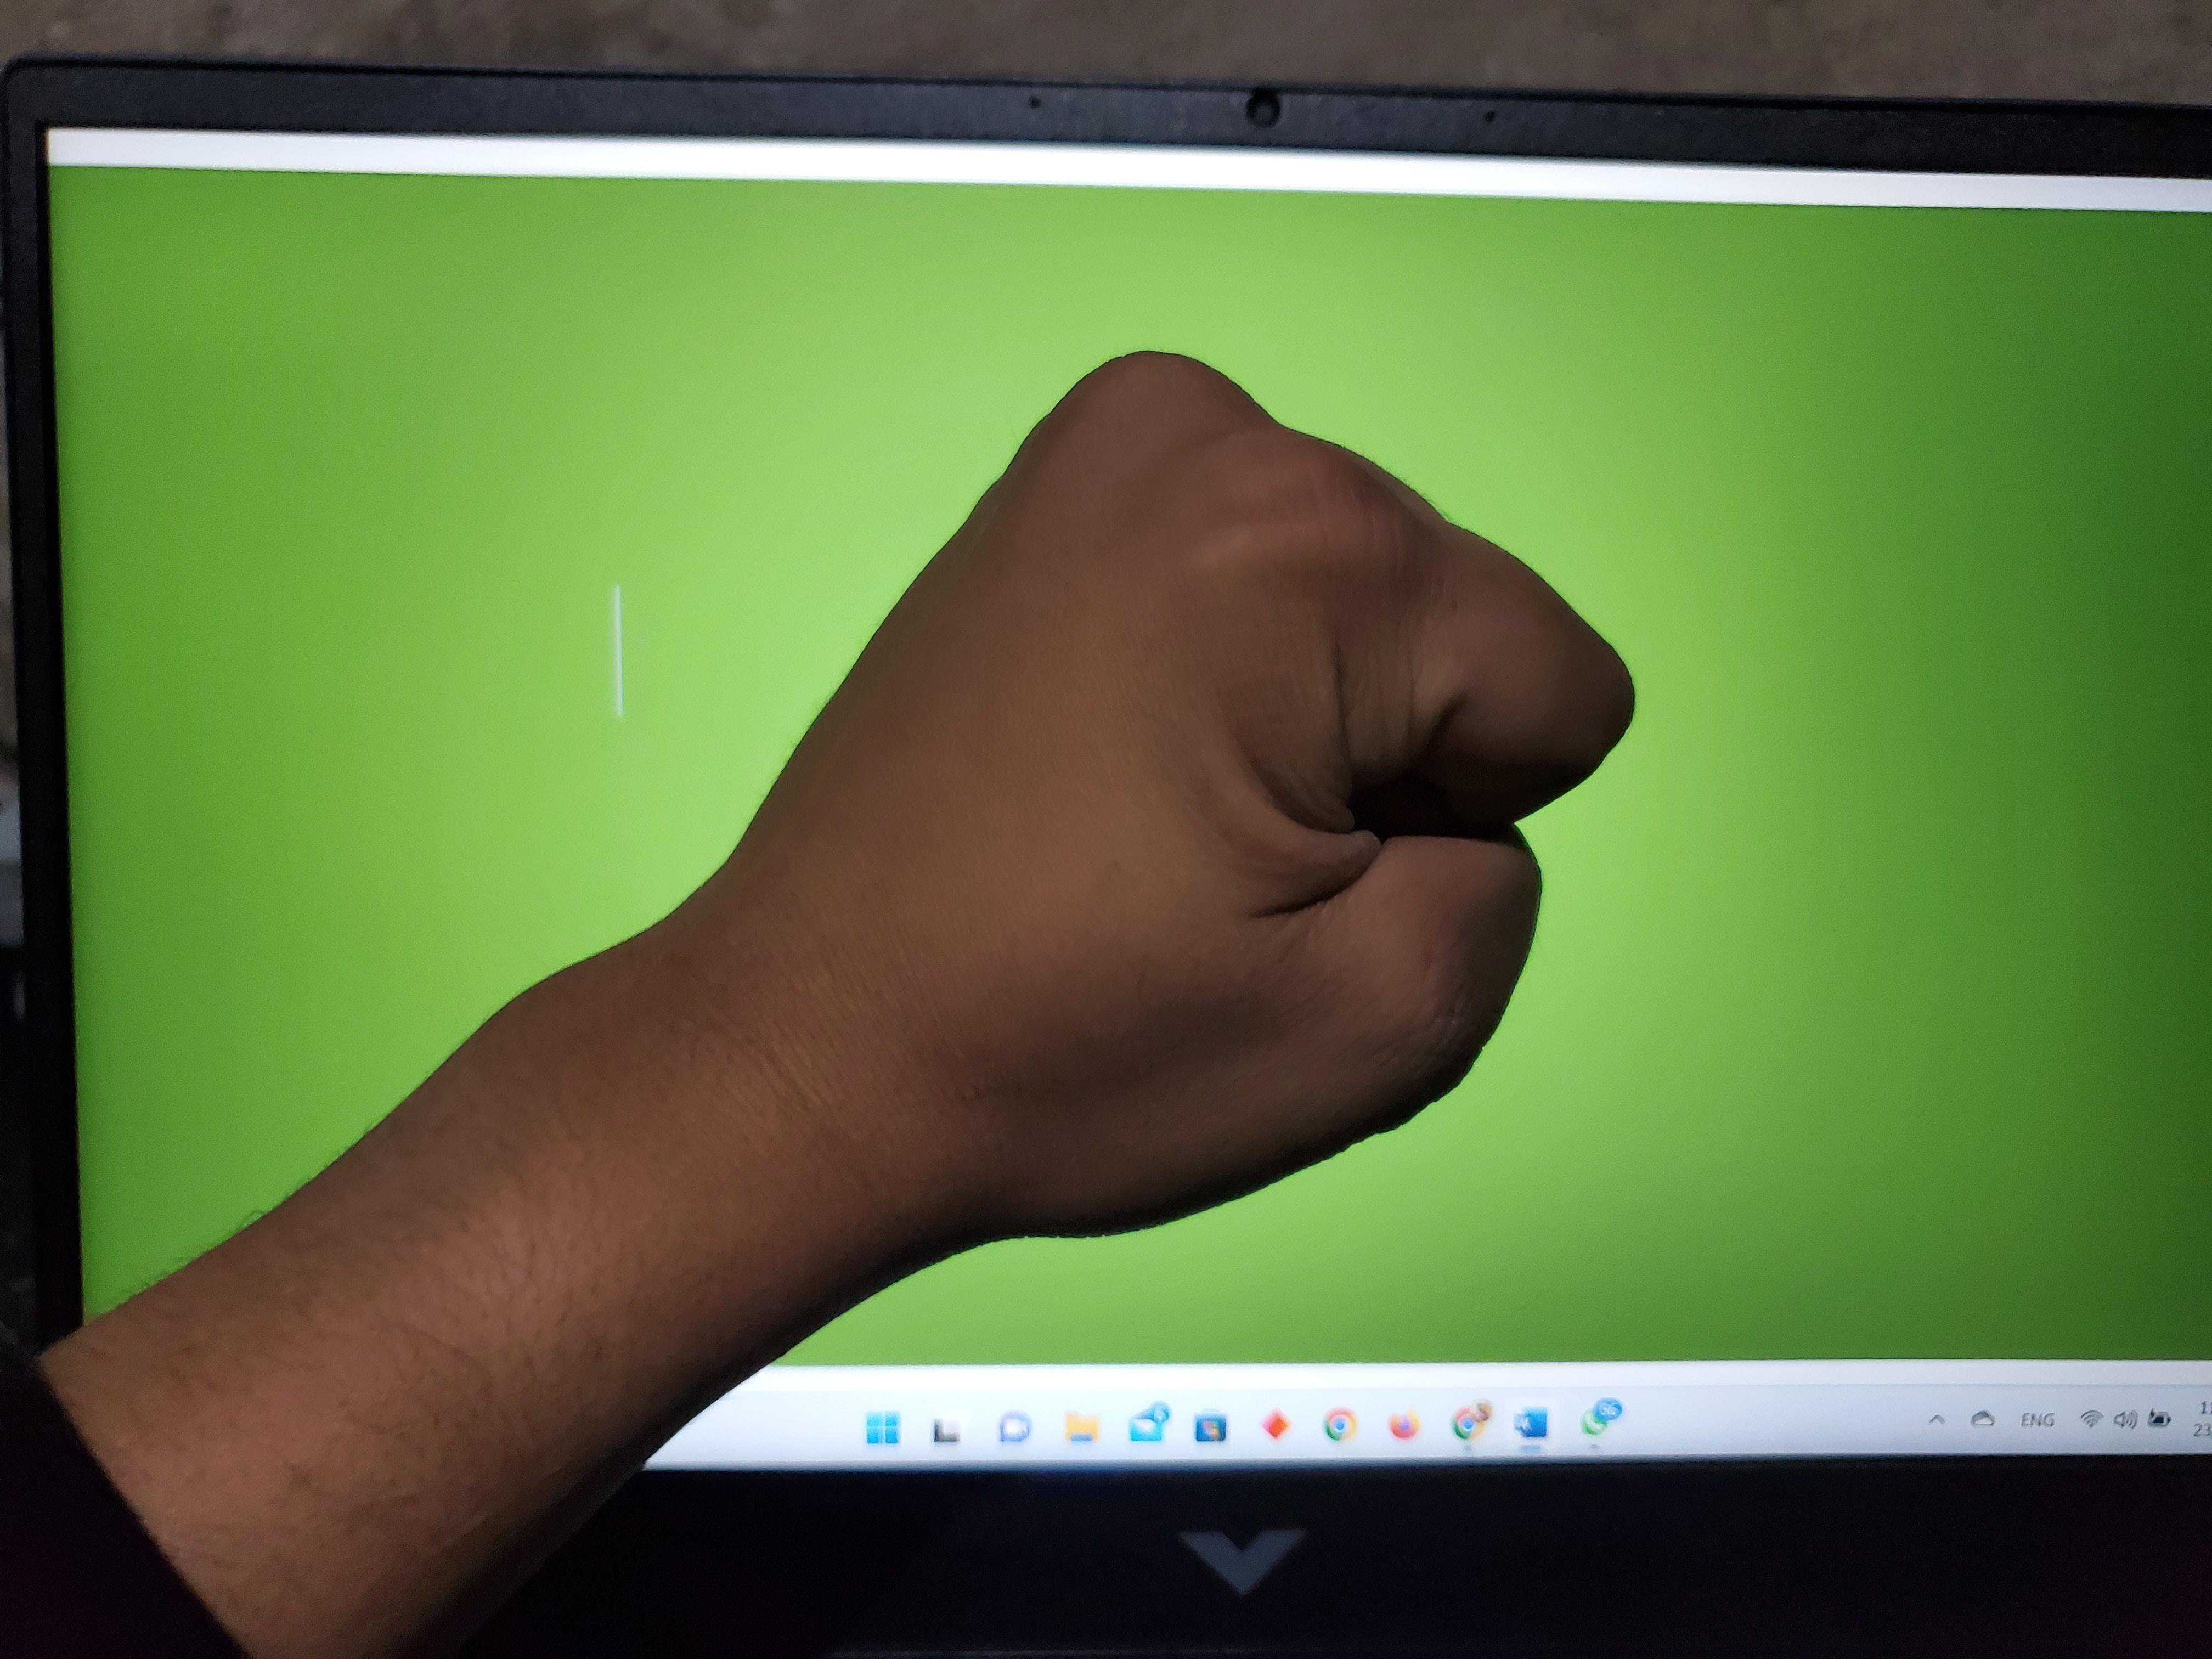Stone: (374, 227, 1822, 1396)
